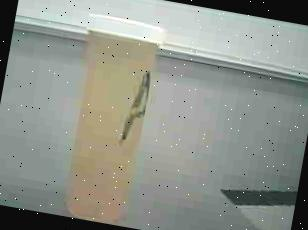Bottle A: (45, 6, 180, 230)
